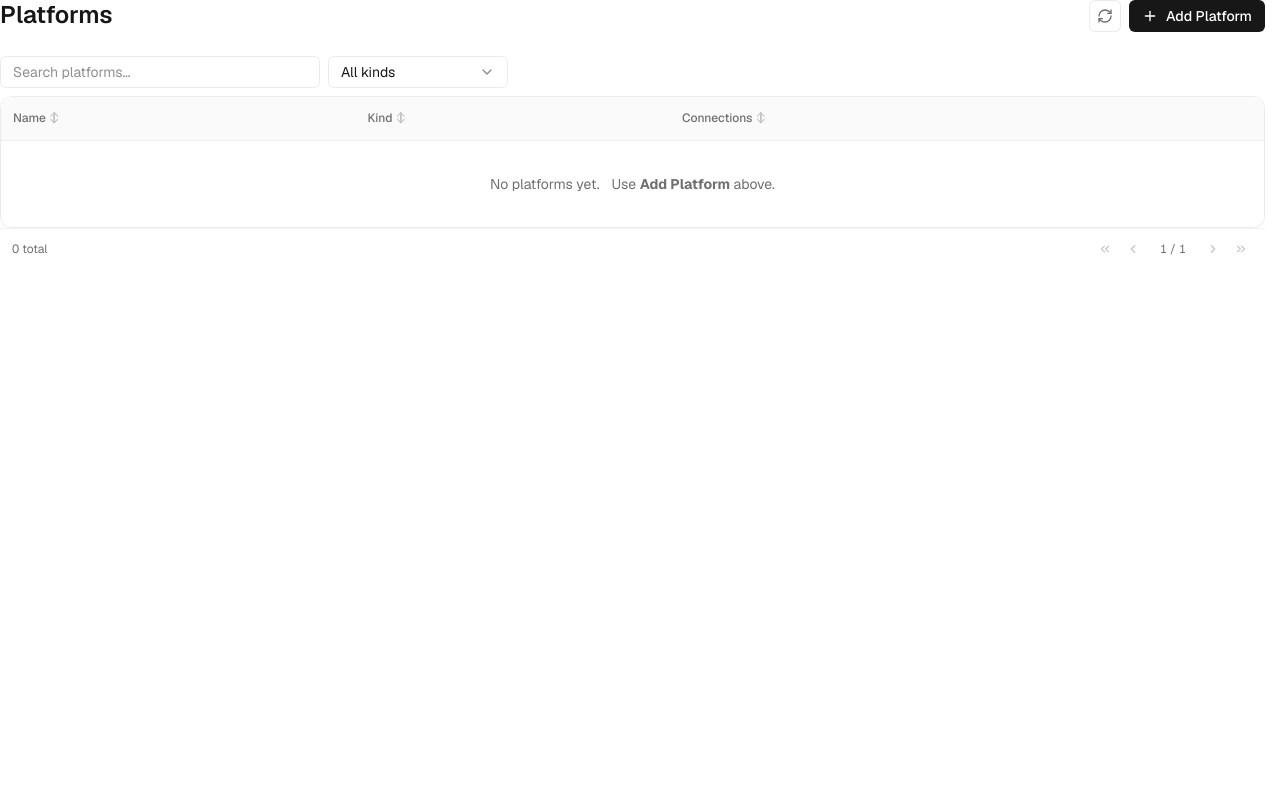
Scenario: PlatformsPage › Add Platform dialog: required-field validation prevents submission
Click the button "Add Platform": click(1197, 16) [1129,0,1265,32]
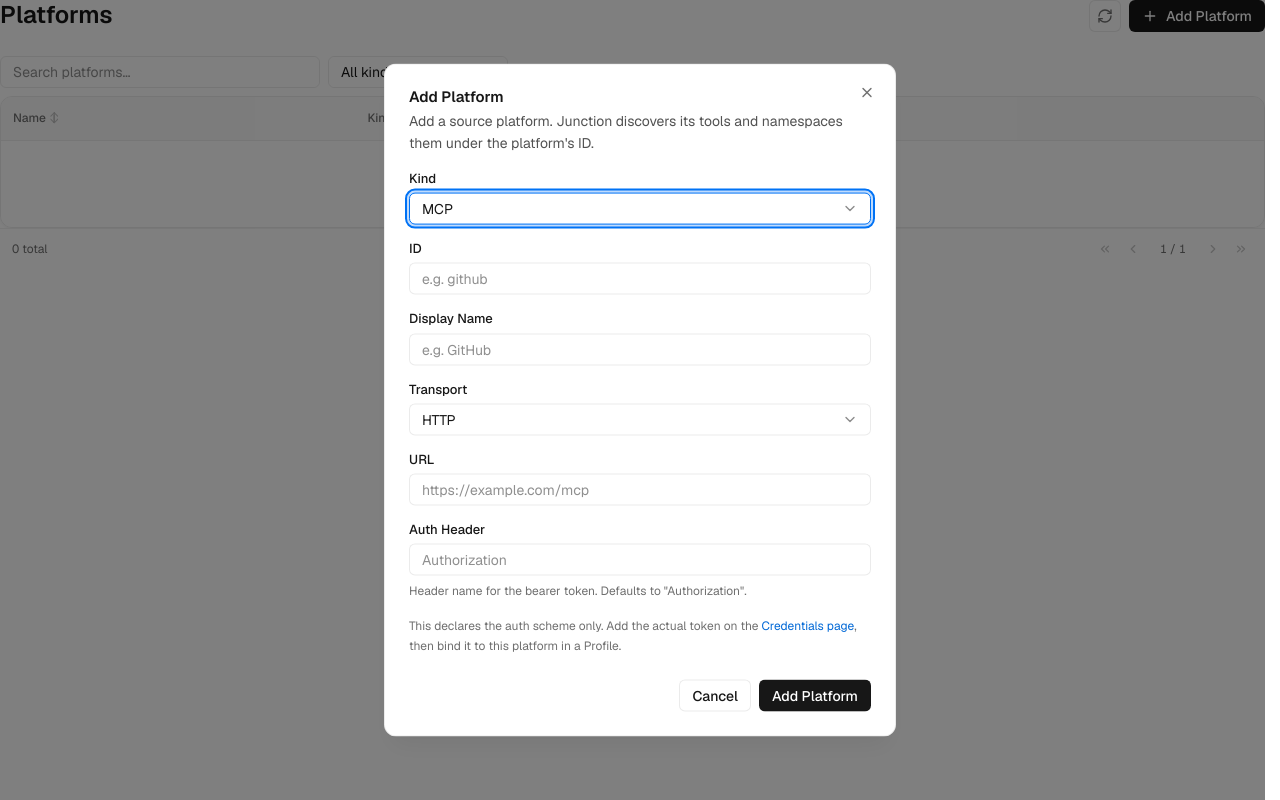
Expected: the dialog is shown, [384,64,896,736]
Click the submit button: click(815, 695) [759,679,871,711]
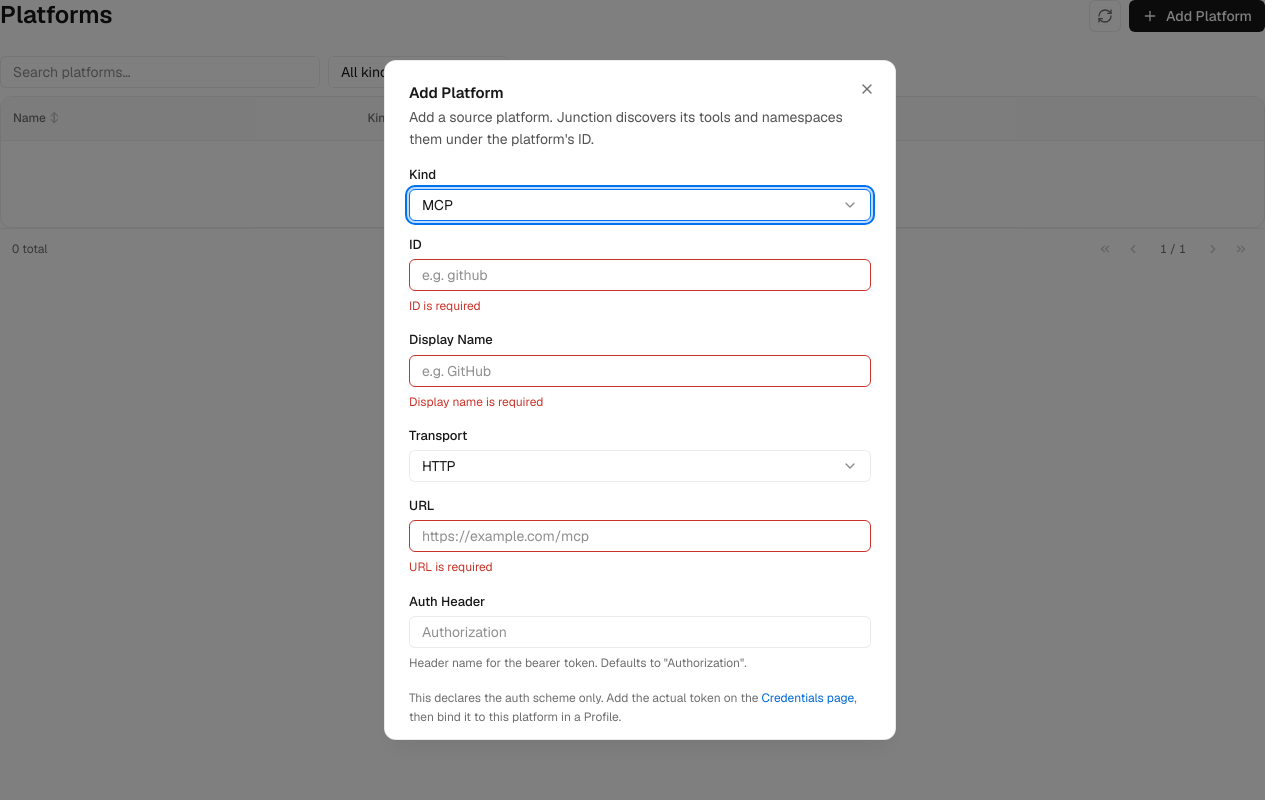
Expected: the text "ID is required" is shown, [409,298,481,314]
